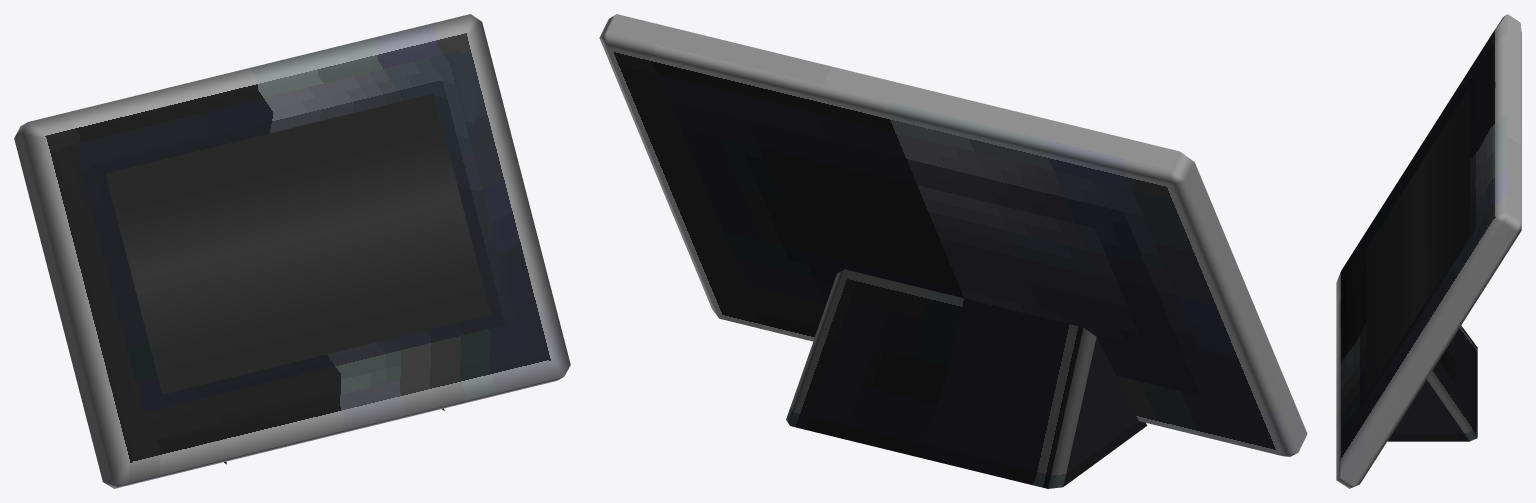
File: int_oth_digiphoto.dae
3 views of the same model, side by side, from view 1: azimuth 30°, elevation 25°; view 2: azimuth 150°, elevation 25°; view 3: azimuth 270°, elevation 25° (orthographic). The views are drawn at different scales.
Parts seen in each view (by area): view 1: int_oth_digiphoto; view 2: int_oth_digiphoto; view 3: int_oth_digiphoto.
Part boxes in pixels (<box>): int_oth_digiphoto: <box>14,14,570,488</box>; int_oth_digiphoto: <box>599,14,1307,488</box>; int_oth_digiphoto: <box>1336,14,1521,488</box>.
Size of the model in its own units: 15.18 by 9.65 by 5.78.
Materials: 2 (2 with a texture image).
